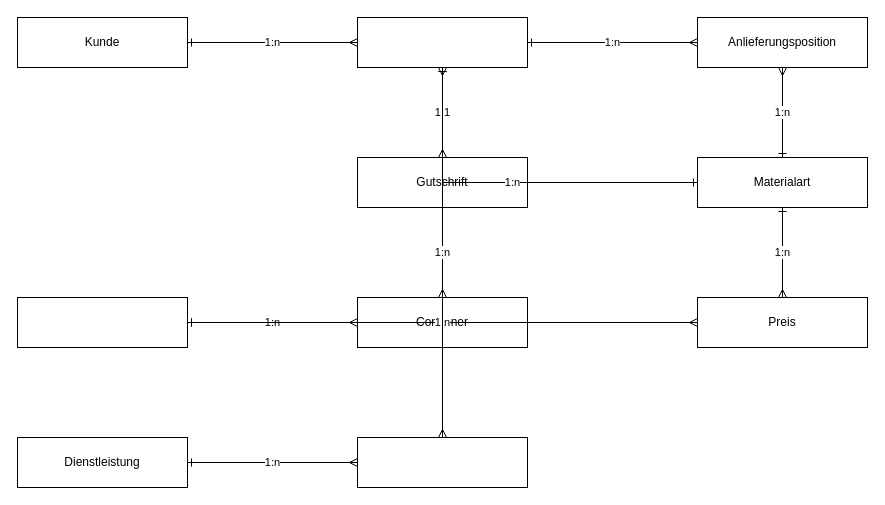
This 885x505 diagram has some shape labels left out. Each missing label, with the box of its shape:
Anlieferung: (356, 16, 528, 68)
Dienstleistungsposition: (356, 436, 528, 488)
Standort: (16, 296, 188, 348)
